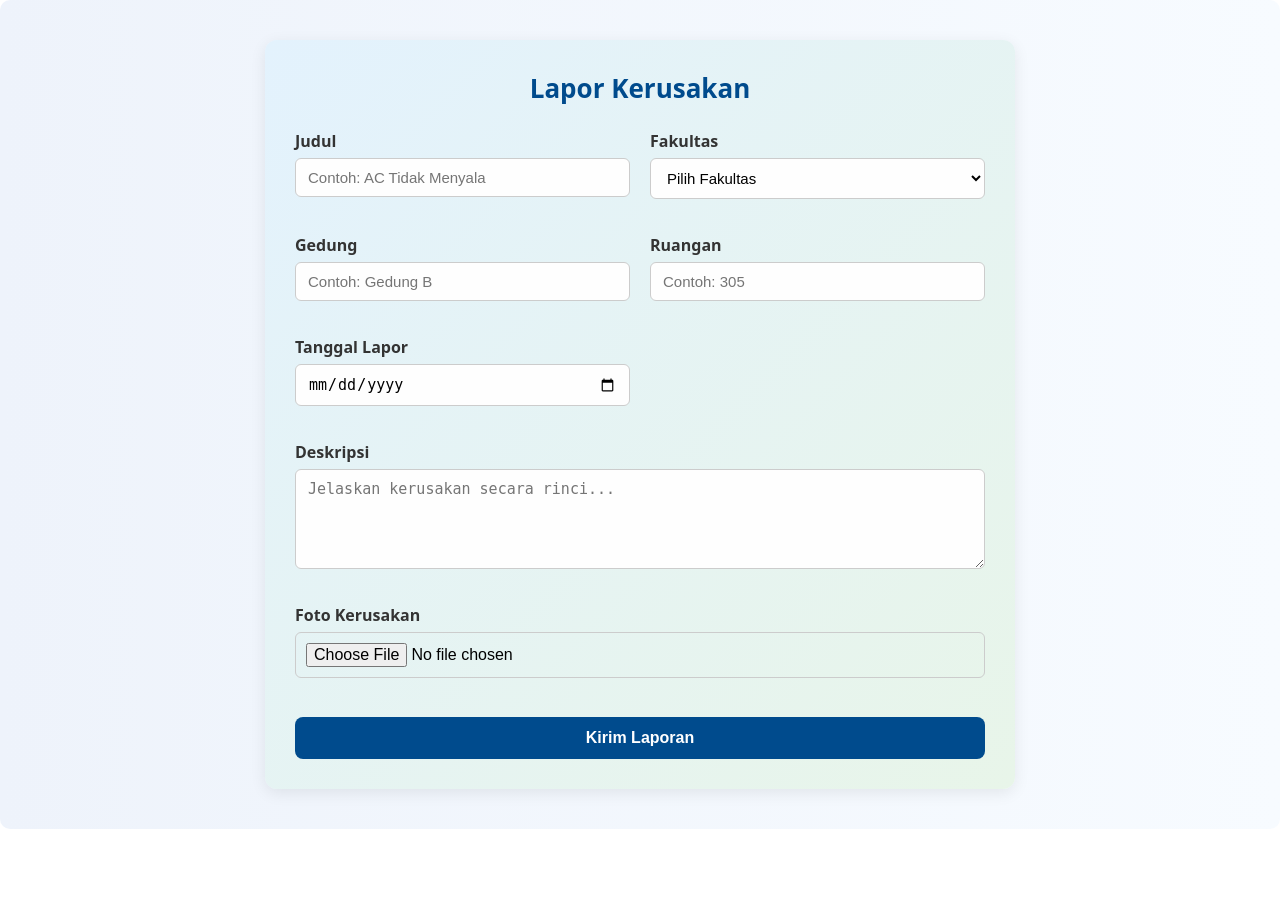
LaporKerusakan.vue › submit data form berhasil menampilkan pesan sukses
Step 1. Type "Kursi patah" into the field with id "judul" → (462, 178), box [295, 158, 630, 197]
Step 2. Type "Kaki kursi patah" into the text box with id "deskripsi" → (640, 519), box [295, 469, 985, 569]
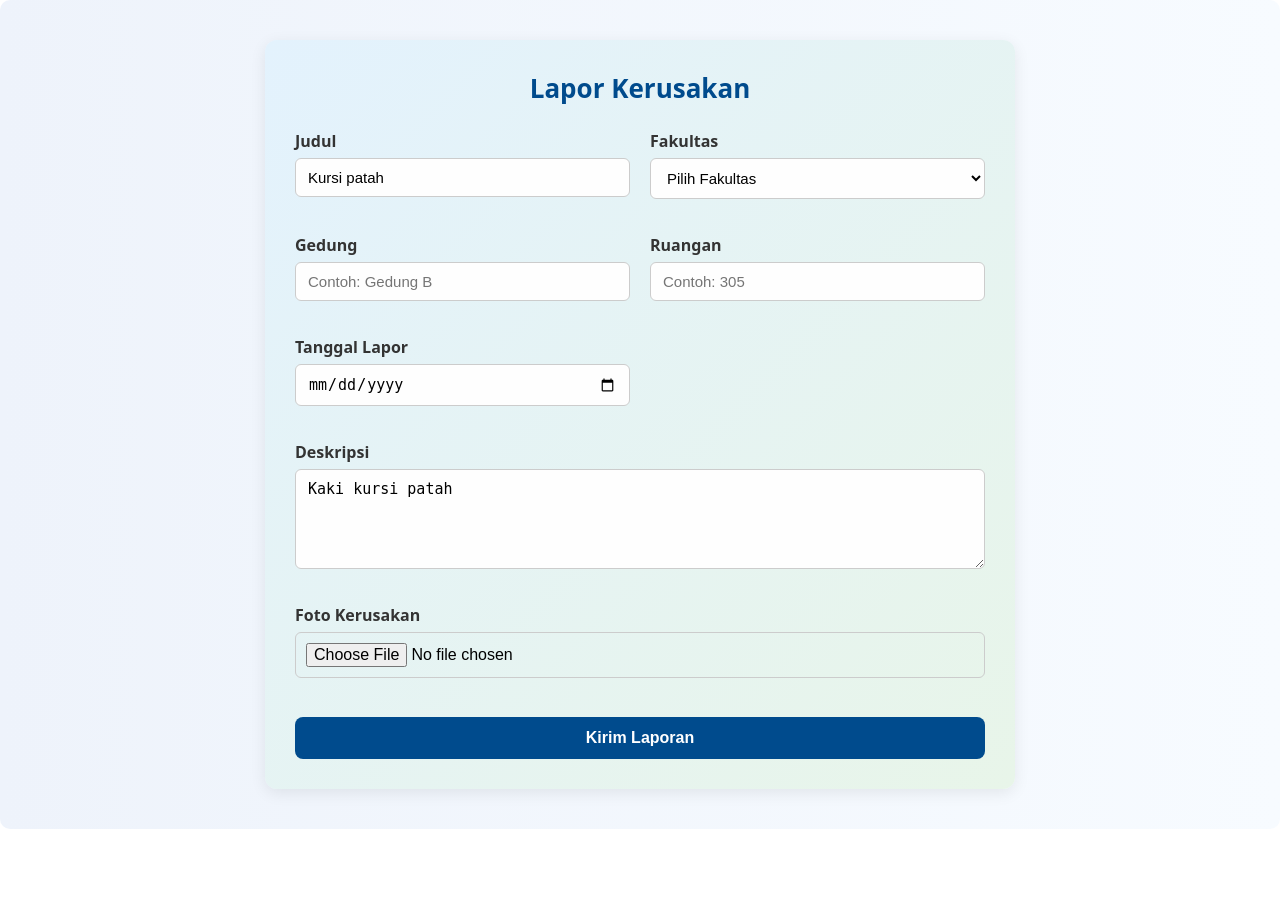
Step 3. Select "Fakultas Teknik" in the dropdown with id "fakultas" → (818, 178), box [650, 158, 985, 199]
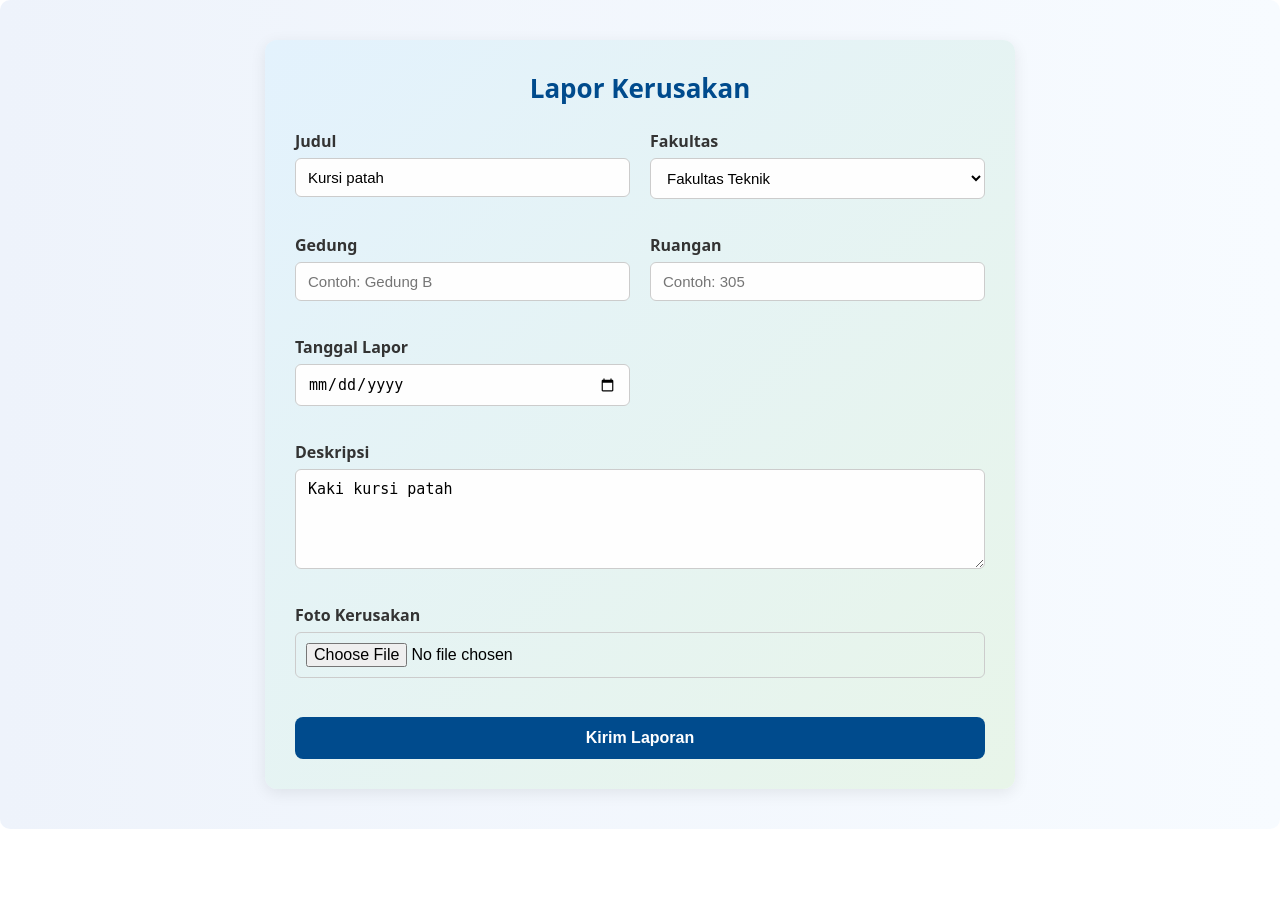
Step 4. Type "Gedung A" into the field with id "gedung" → (462, 282), box [295, 262, 630, 301]
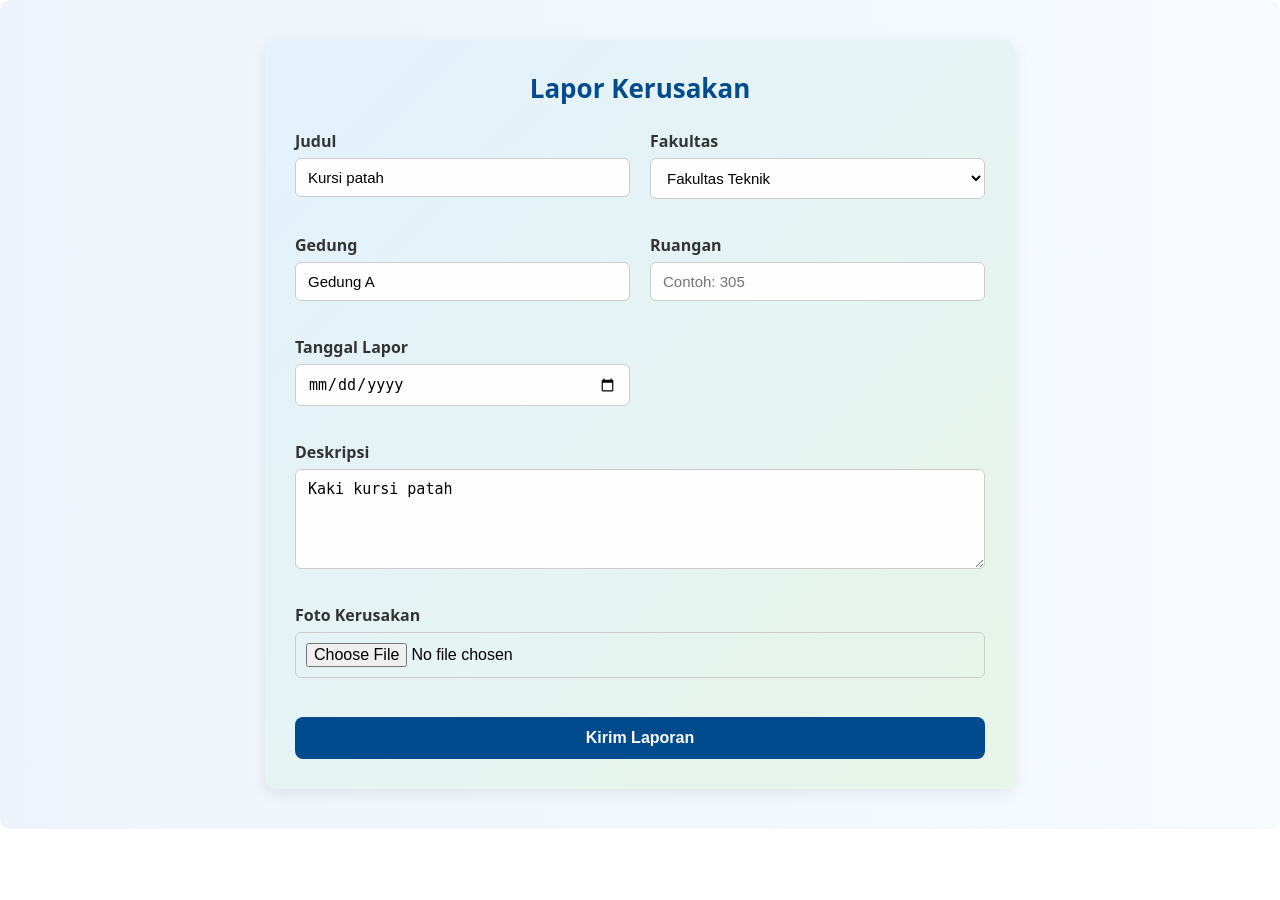
Step 5. Type "101" into the field with id "ruangan" → (818, 282), box [650, 262, 985, 301]
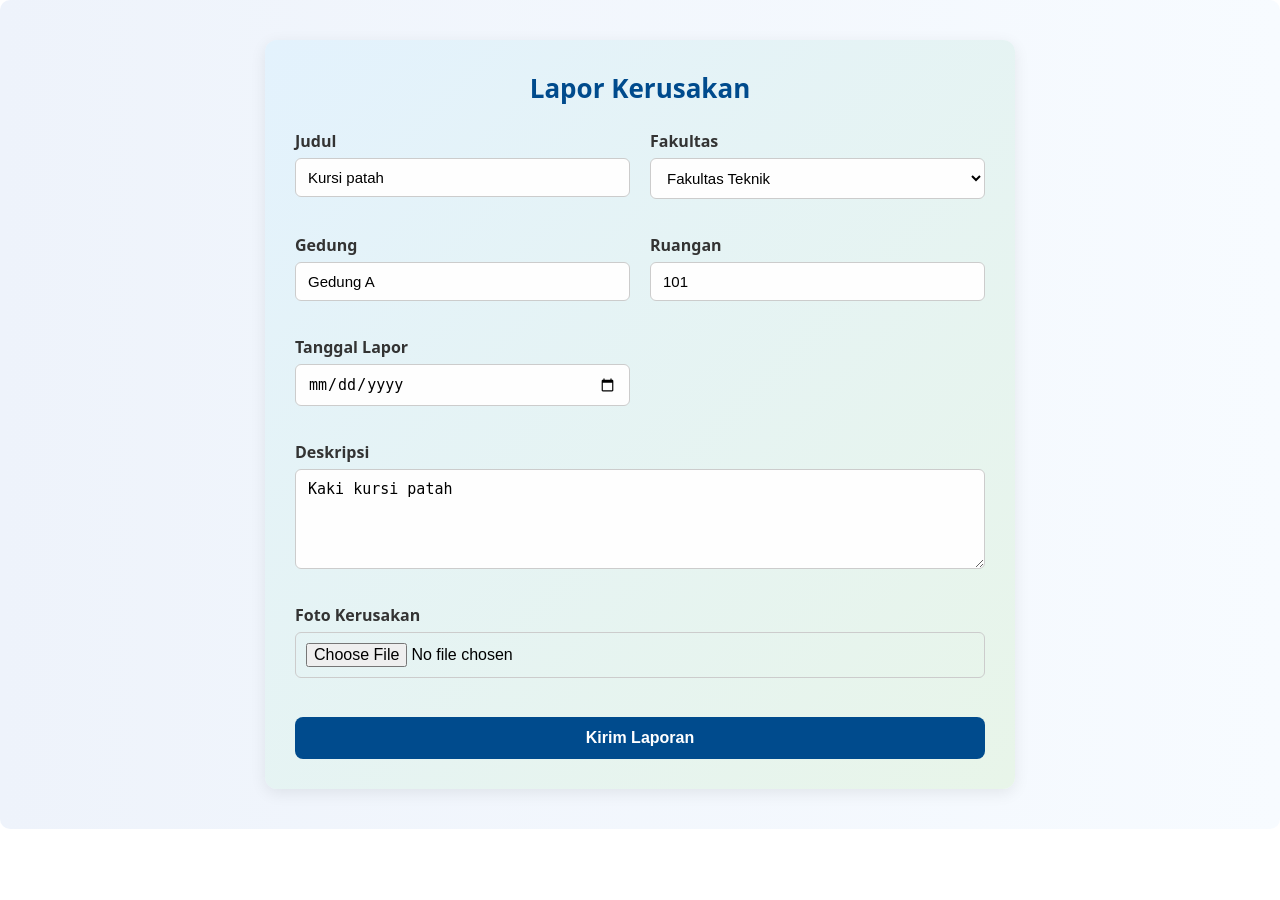
Step 6. Type "2025-07-08" into the date field with id "tanggal" → (462, 385), box [295, 364, 630, 406]
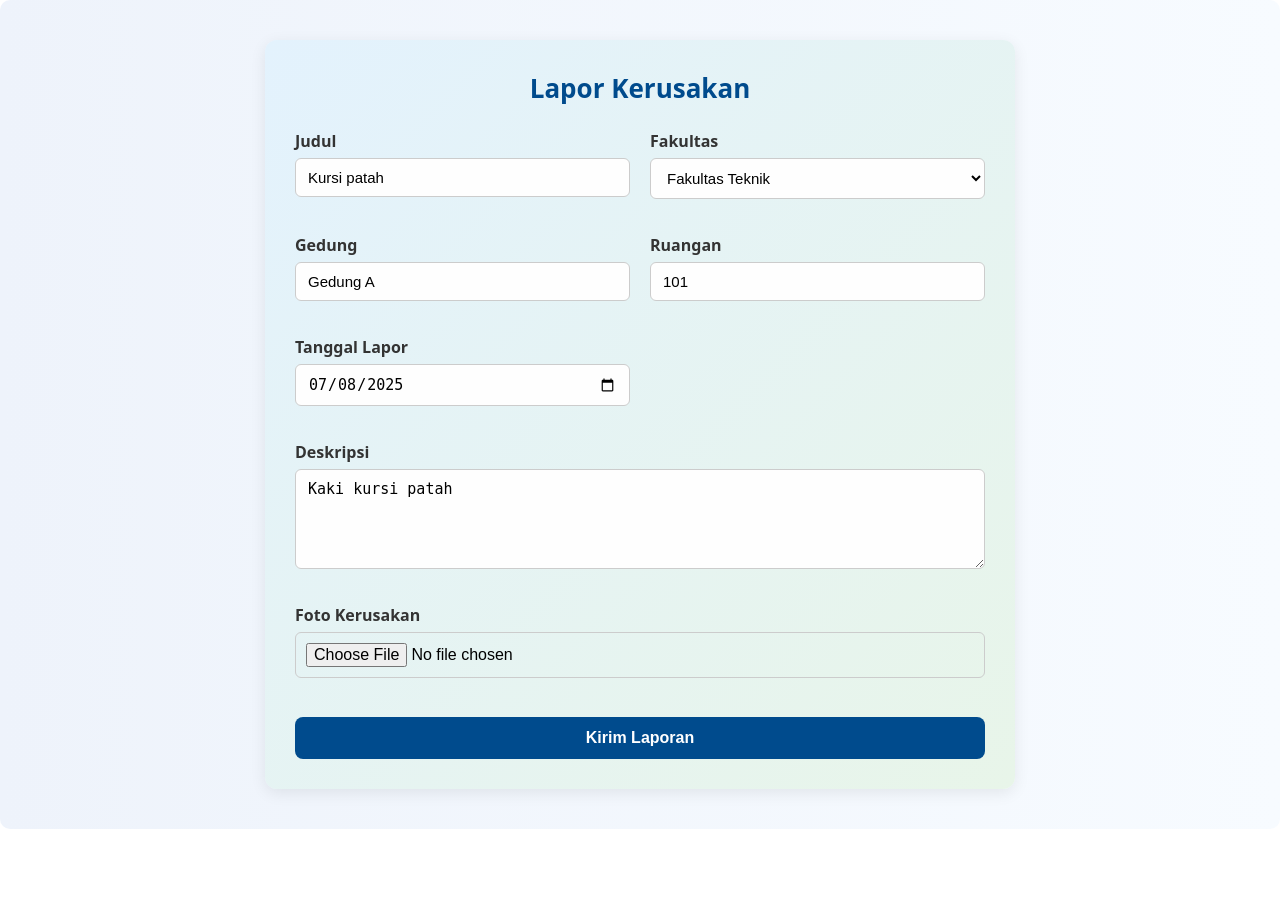
Step 7. Submit the form, box [295, 130, 985, 759]
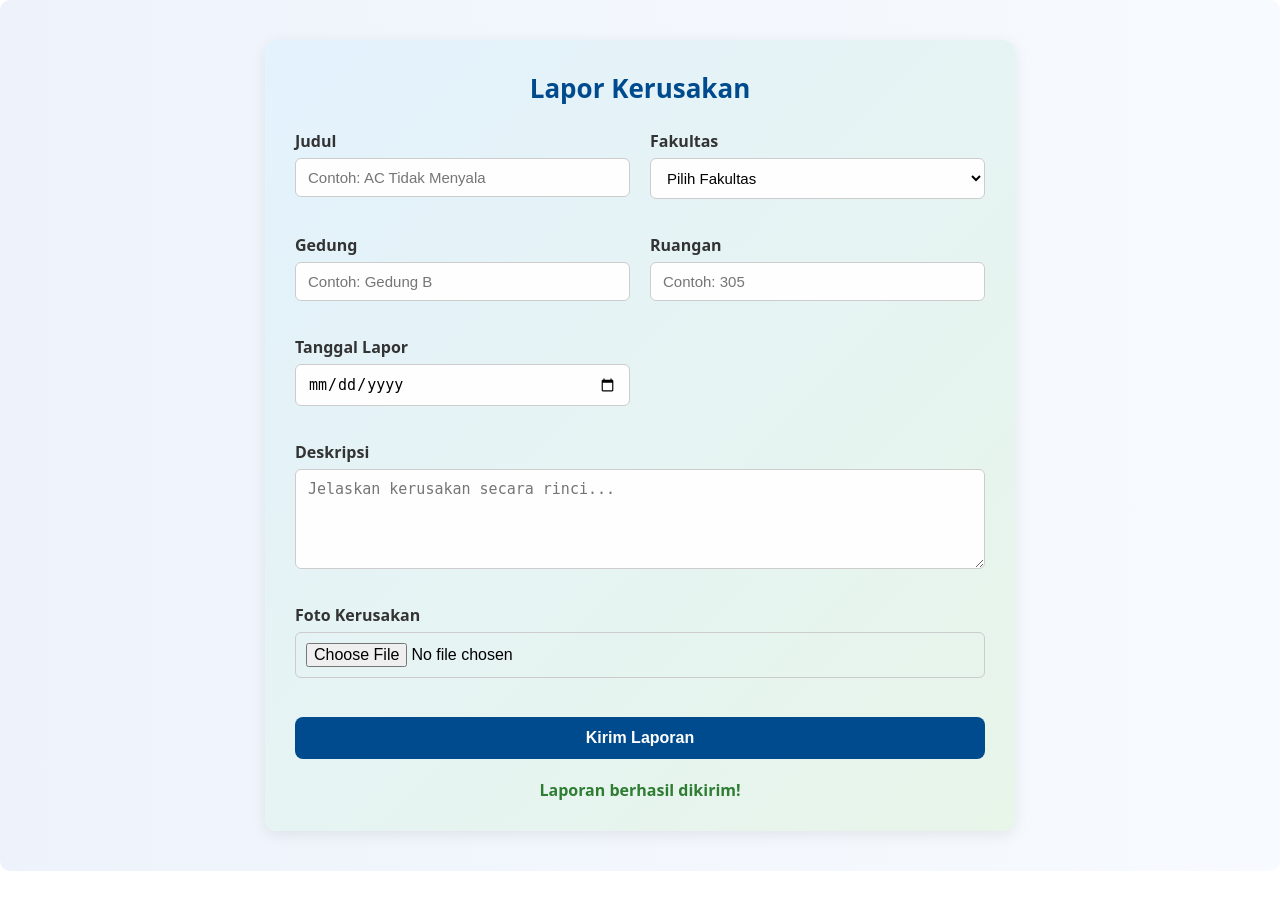
Check: the text "Laporan berhasil dikirim" is shown, box [539, 779, 741, 801]
